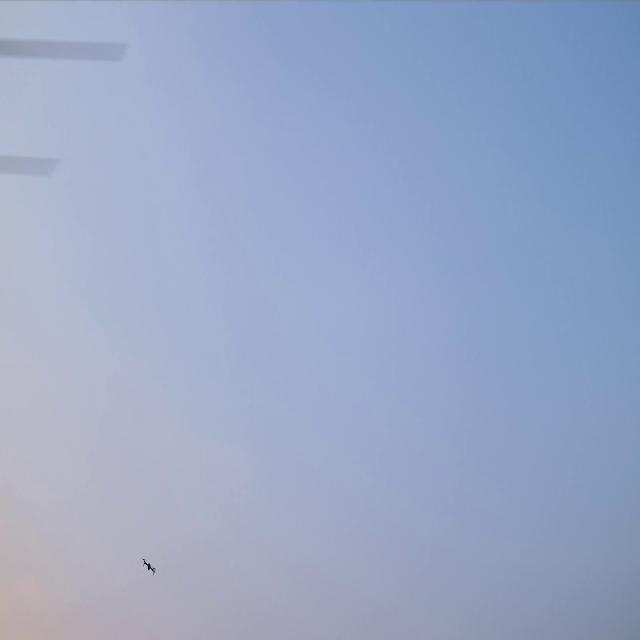UAV: (140, 557, 157, 575)
